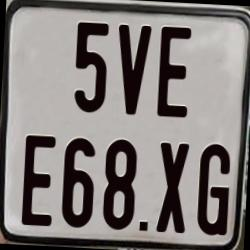5: (72, 22, 111, 116)
6: (60, 136, 98, 228)
8: (100, 137, 138, 229)
E: (157, 25, 195, 119), (22, 134, 60, 226)
G: (196, 142, 232, 238)
V: (114, 24, 152, 116)
X: (155, 143, 190, 234)
